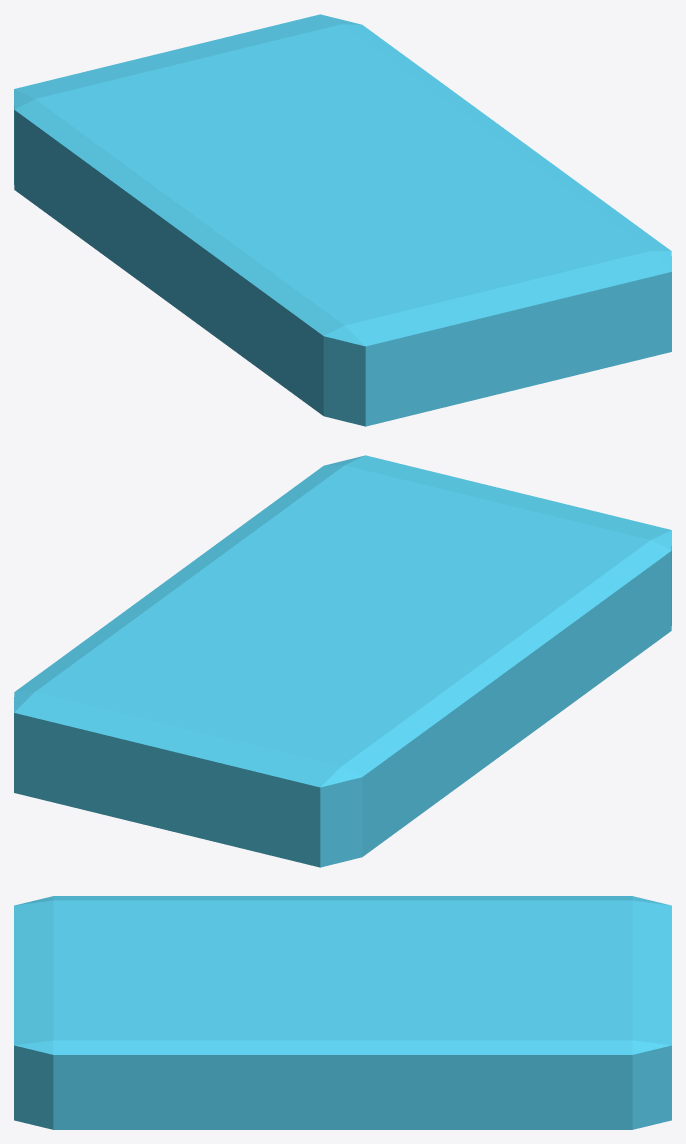
File: GlassBlock.fbx
3 views of the same model, one above another, from view 1: azimuth 30°, elevation 25°; view 2: azimuth 150°, elevation 25°; view 3: azimuth 270°, elevation 25° (orthographic). The views are drawn at different scales.
Visible parts, largest first — view 1: GlassBlock; view 2: GlassBlock; view 3: GlassBlock.
Part boxes in pixels (x1,y1,x2,y2): GlassBlock: (14,14,671,426); GlassBlock: (14,455,671,867); GlassBlock: (14,896,671,1129).
Bounding box in the file's own units: 4 × 1 × 7.
